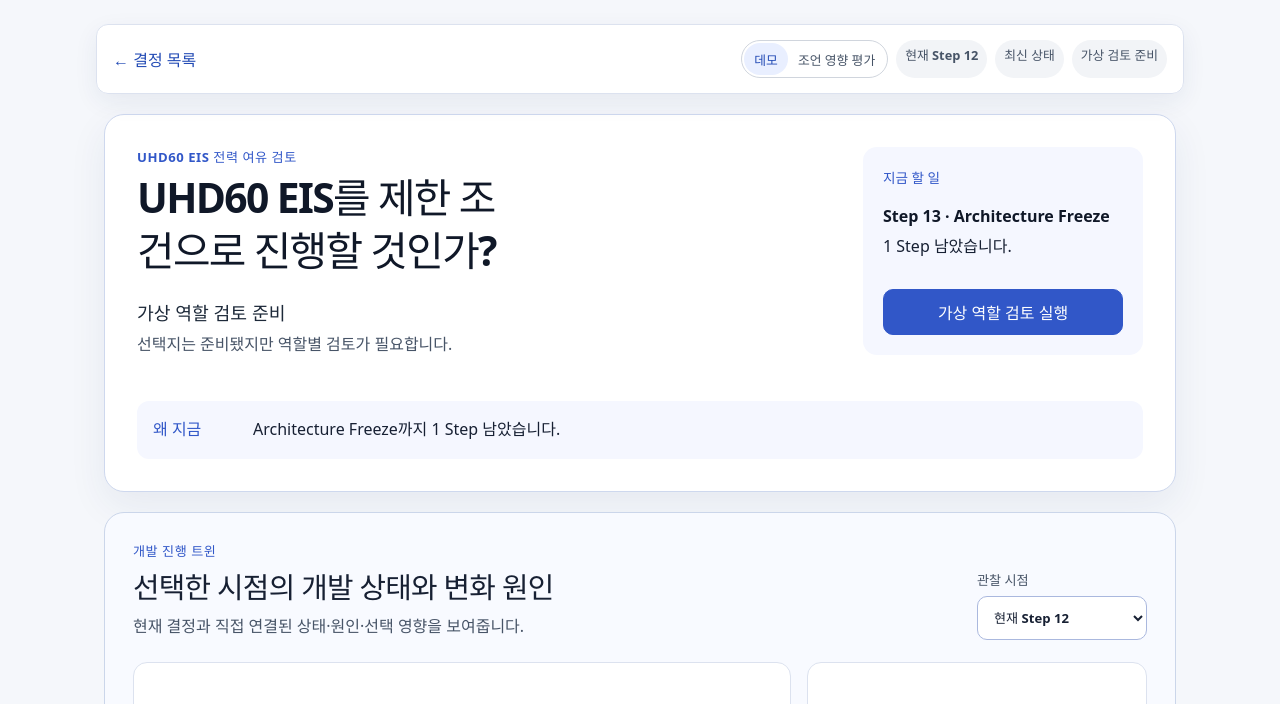
App › switches to a historical observable step and disables commands
Select "Step 9" in the dropdown labelled "관찰 시점" at (1062,618), box [977,596,1147,640]
(page scrolled)
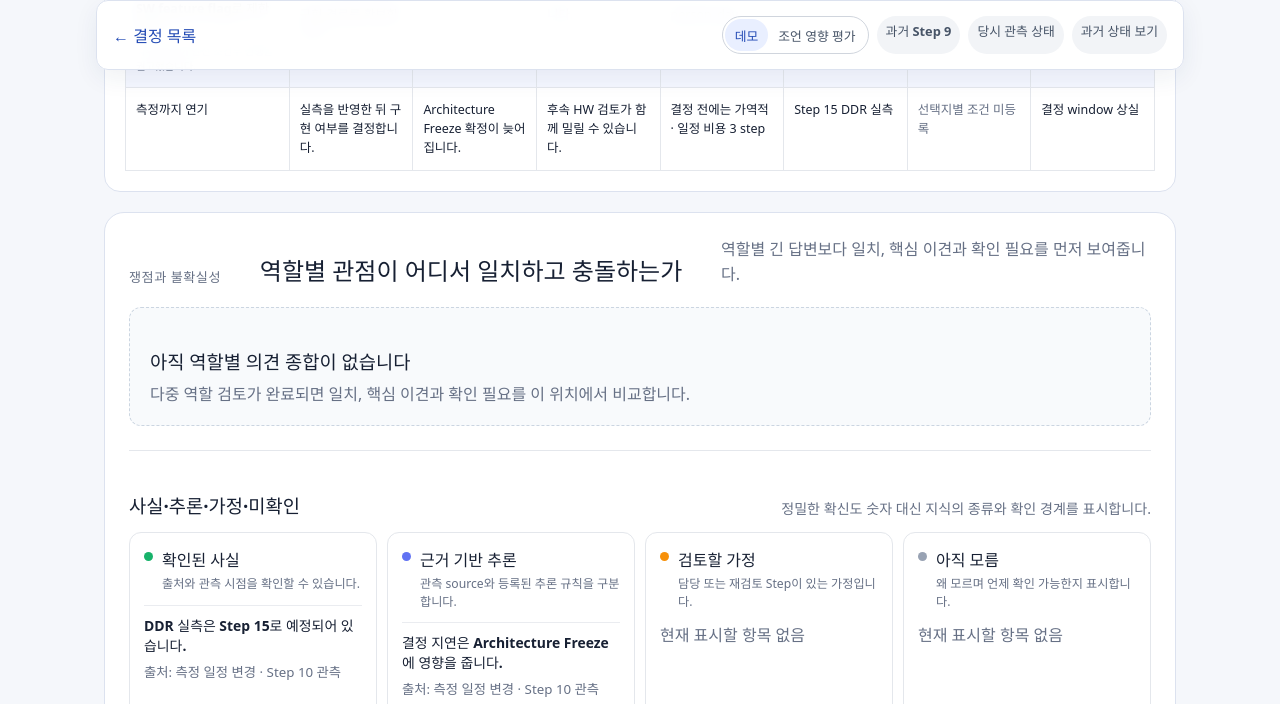
Expected: the button "가상 역할 검토 실행" is gone
Expected: the heading "아직 역할별 의견 종합이 없습니다" is shown, [150,349,410,374]
